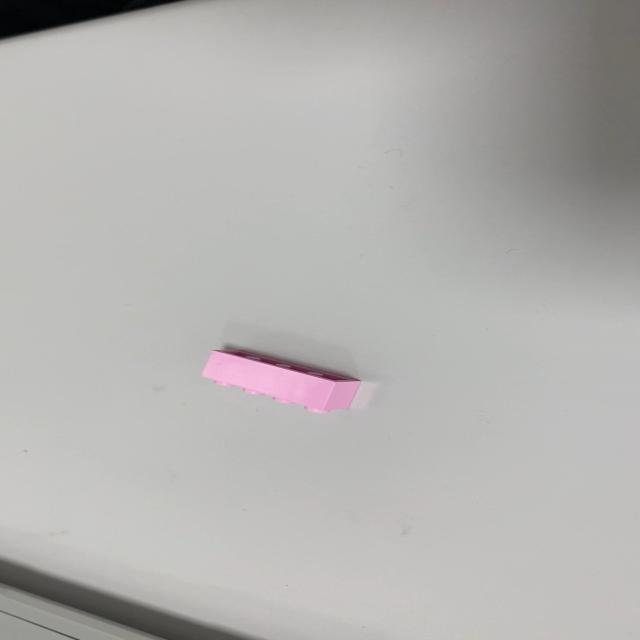C4x1x1: (200, 349, 362, 414)
